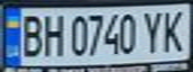0: (66, 11, 87, 57), (118, 10, 139, 55)
4: (103, 10, 124, 55)
7: (84, 11, 106, 56)
B: (15, 11, 45, 57)
H: (39, 11, 66, 58)
K: (157, 7, 190, 53)
Y: (139, 8, 166, 54)
